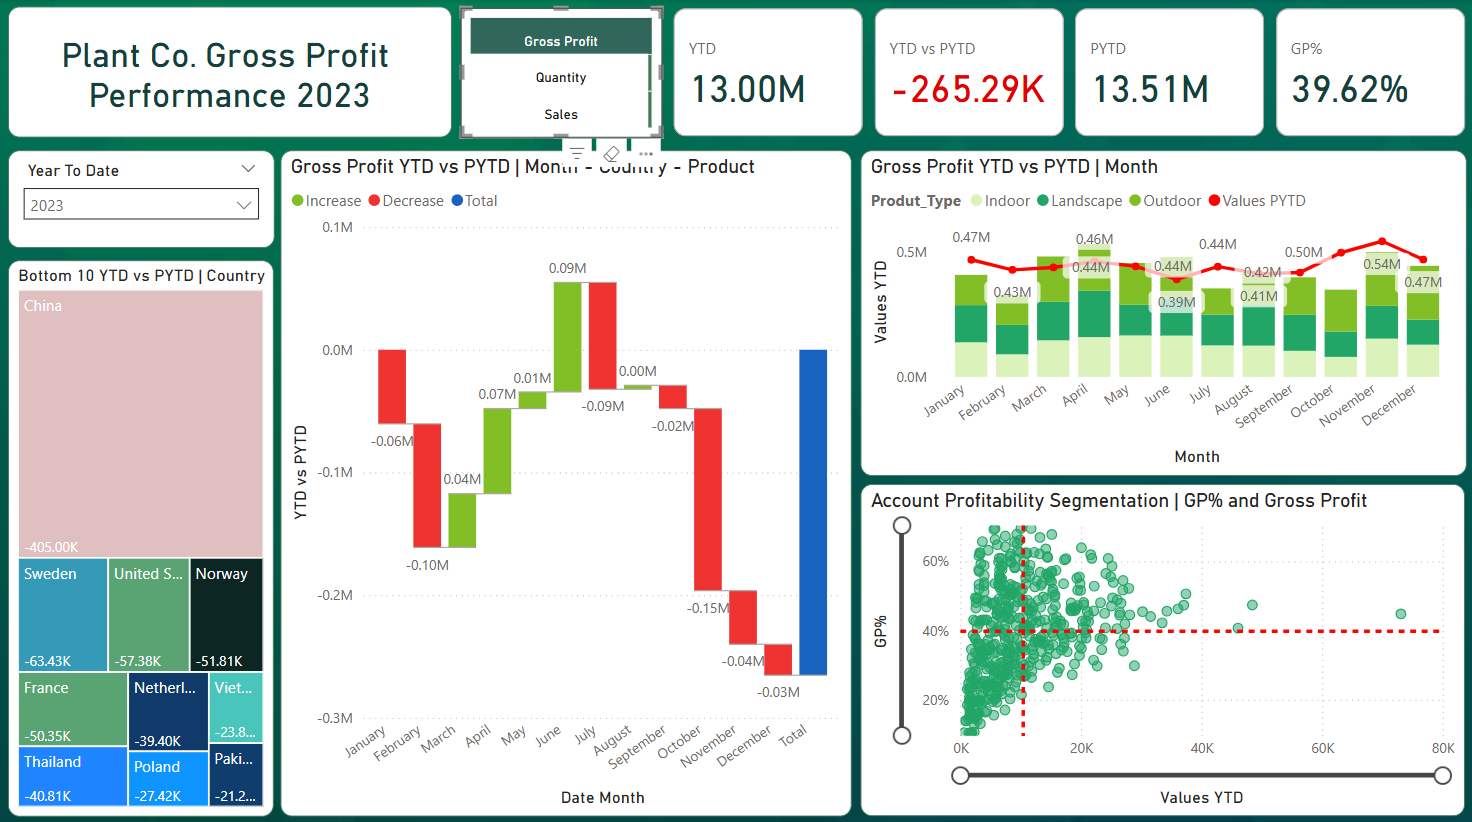

The page's visual inventory and layout, read from the dashboard file:
{"tool":"powerbi","page":{"name":"Page 1","canvas":[1280,720],"ordinal":0},"visuals":[{"type":"advancedSlicerVisual","fields":{"Values":["slc_values.Values"]},"box":[400.7,7.1,175,113.6],"z":0},{"type":"slicer","fields":{"Values":["Dim_Date.Date.Variation.Date Hierarchy.Year"]},"box":[8.3,131,231.1,84.6],"z":1000},{"type":"treemap","title":"Bottom 10 YTD vs PYTD | Country","fields":{"Group":["Dim_Accounts.Country"],"Values":["_Measures.YTD vs PYTD"]},"box":[8.9,226.1,230.6,482.8],"z":2000},{"type":"waterfallChart","fields":{"Y":["_Measures.YTD vs PYTD"],"Category":["Dim_Date.Date.Variation.Date Hierarchy.Month","Dim_Accounts.Country","Dim_Product.Produt_Type","Dim_Product.Product_Name"]},"box":[245.4,131,495.6,577.8],"z":3000},{"type":"lineStackedColumnComboChart","fields":{"Y":["_Measures.Switch_YTD"],"Y2":["_Measures.Switch_PYTD"],"Category":["Dim_Date.Date.Variation.Date Hierarchy.Month"],"Series":["Dim_Product.Produt_Type"]},"box":[747.2,131.1,525.6,282.2],"z":4000},{"type":"scatterChart","fields":{"Y":["_Measures.GP%"],"X":["_Measures.Switch_YTD"],"Category":["Dim_Accounts.Account"]},"box":[748.1,420.5,524.2,288.3],"z":5000},{"type":"card","fields":{"Values":["_Measures._report title"]},"box":[8.8,6.2,385,113.8],"z":6000},{"type":"cardVisual","fields":{"Data":["_Measures.YearToDate_Sales","_Measures.YTD vs PYTD","_Measures.PYTD_Sales","_Measures.GP%"]},"box":[580.9,3.6,699.1,121.8],"z":7000}]}

Visuals, with their boxes in screenshot pixels (x1, y1, x2, y2), scaled from the page's 1280x720 canvas onto the 1472x822 screenshot:
advancedSlicerVisual - slc_values.Values: <region>461, 8, 662, 138</region>
slicer - Dim_Date.Date.Variation.Date Hierarchy.Year: <region>10, 150, 275, 246</region>
"Bottom 10 YTD vs PYTD | Country" treemap: <region>10, 258, 275, 809</region>
waterfallChart - _Measures.YTD vs PYTD x Dim_Date.Date.Variation.Date Hierarchy.Month: <region>282, 150, 852, 809</region>
lineStackedColumnComboChart - _Measures.Switch_YTD x _Measures.Switch_PYTD: <region>859, 150, 1464, 472</region>
scatterChart - _Measures.GP% x _Measures.Switch_YTD: <region>860, 480, 1463, 809</region>
card - _Measures._report title: <region>10, 7, 453, 137</region>
cardVisual - _Measures.YearToDate_Sales x _Measures.YTD vs PYTD: <region>668, 4, 1471, 143</region>
